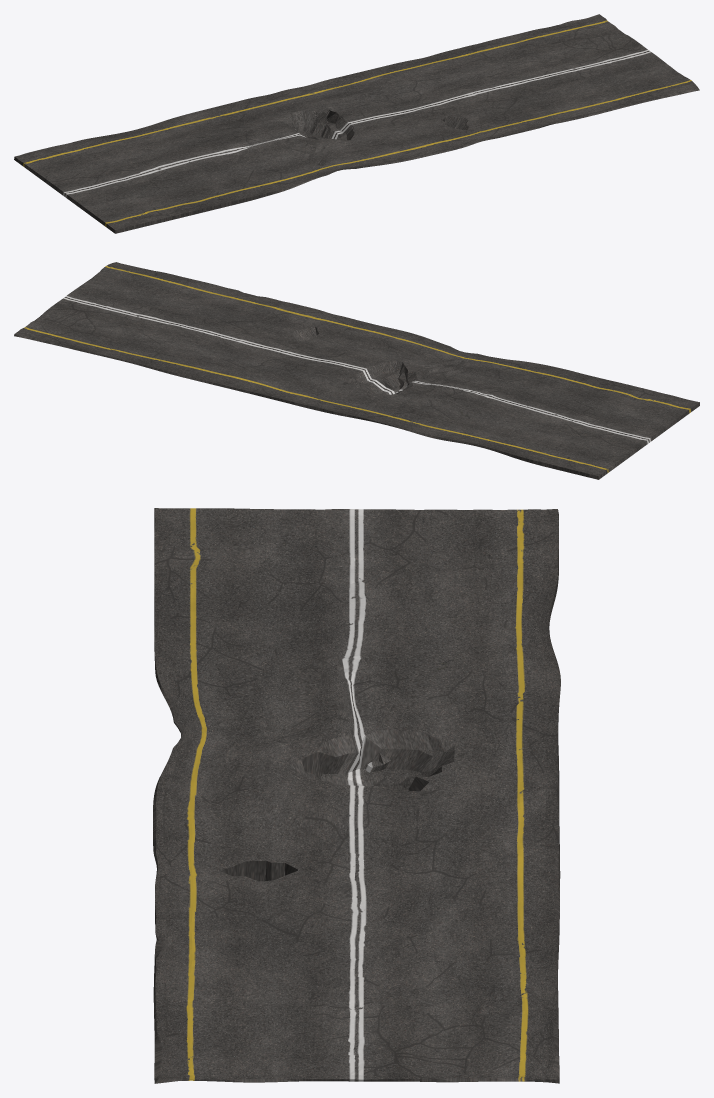
File: road.dae
3 renders of one model, top to bottom at view 1: azimuth 30°, elevation 25°; view 2: azimuth 150°, elevation 25°; view 3: azimuth 270°, elevation 25°, orthographic. The views are drawn at different scales.
Parts seen in each view (by area): view 1: Plane; view 2: Plane; view 3: Plane.
Part boxes in pixels (x1,y1,x2,y2): Plane: [14, 14, 699, 233]; Plane: [14, 262, 699, 479]; Plane: [153, 508, 560, 1083].
Size of the model in its own units: 13.37 by 4.04 by 0.6393.
Materials: 1 (1 with a texture image).
